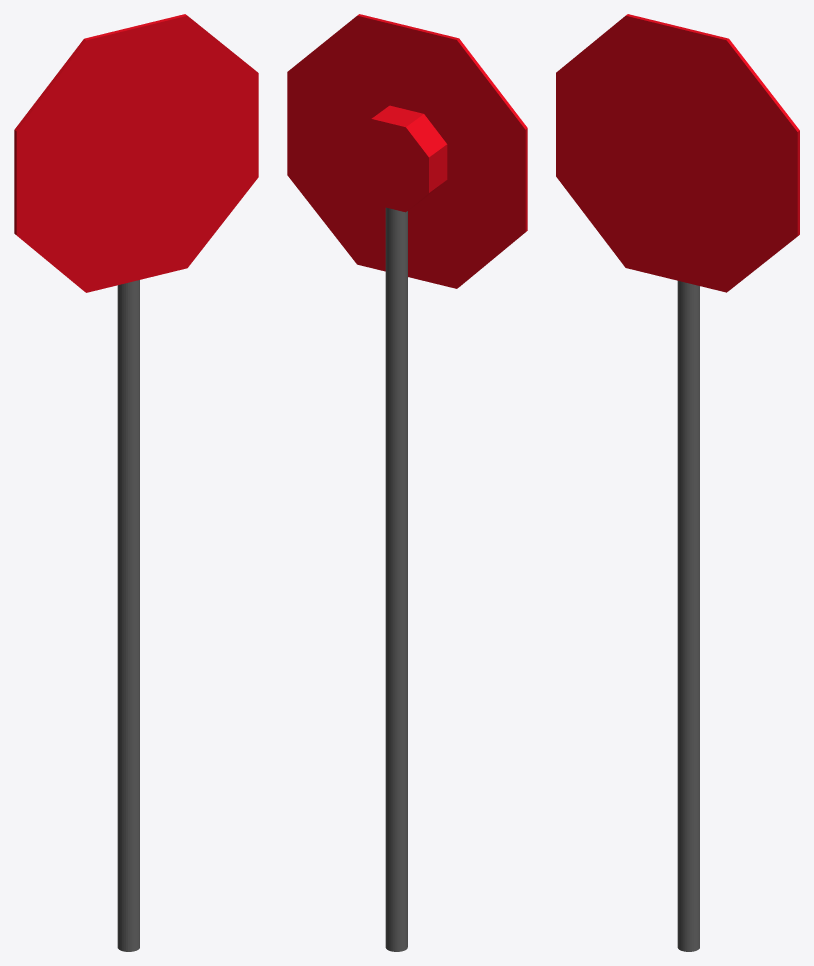
The model's file is STROPSIGN 2.fbx.
3 views of the same model, side by side, from view 1: azimuth 30°, elevation 25°; view 2: azimuth 150°, elevation 25°; view 3: azimuth 330°, elevation 25° (orthographic).
Visible parts, largest first — view 1: Cylinder; view 2: Cylinder; view 3: Cylinder.
Boxes of the visible parts, box(x1,y1,x2,y2) form: Cylinder: box(14, 14, 258, 951); Cylinder: box(287, 14, 527, 951); Cylinder: box(556, 14, 799, 951).
Bounding box in the file's own units: 77.9 × 285 × 11.61.
